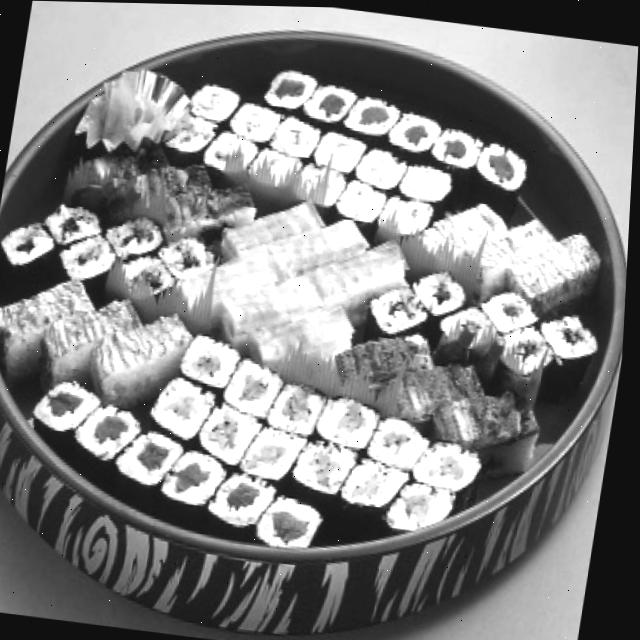寿司卷物: (0, 10, 640, 640)
